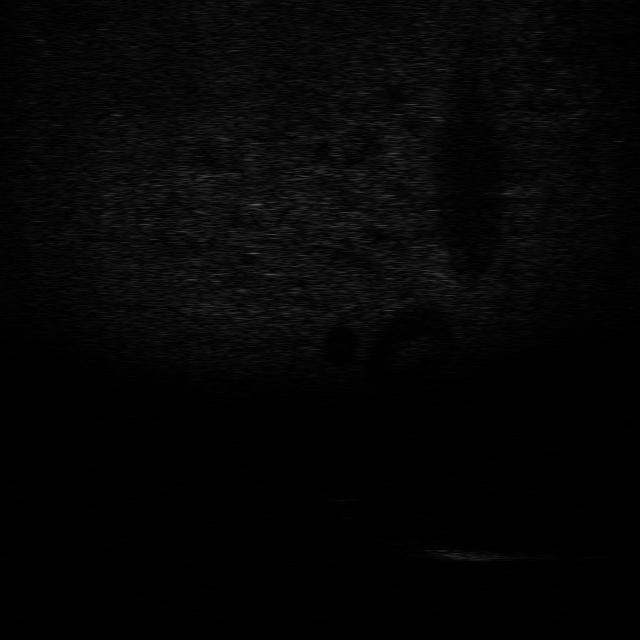ball: (320, 477, 361, 504)
metal bucket: (410, 536, 520, 564)
tyre: (372, 517, 443, 545)
